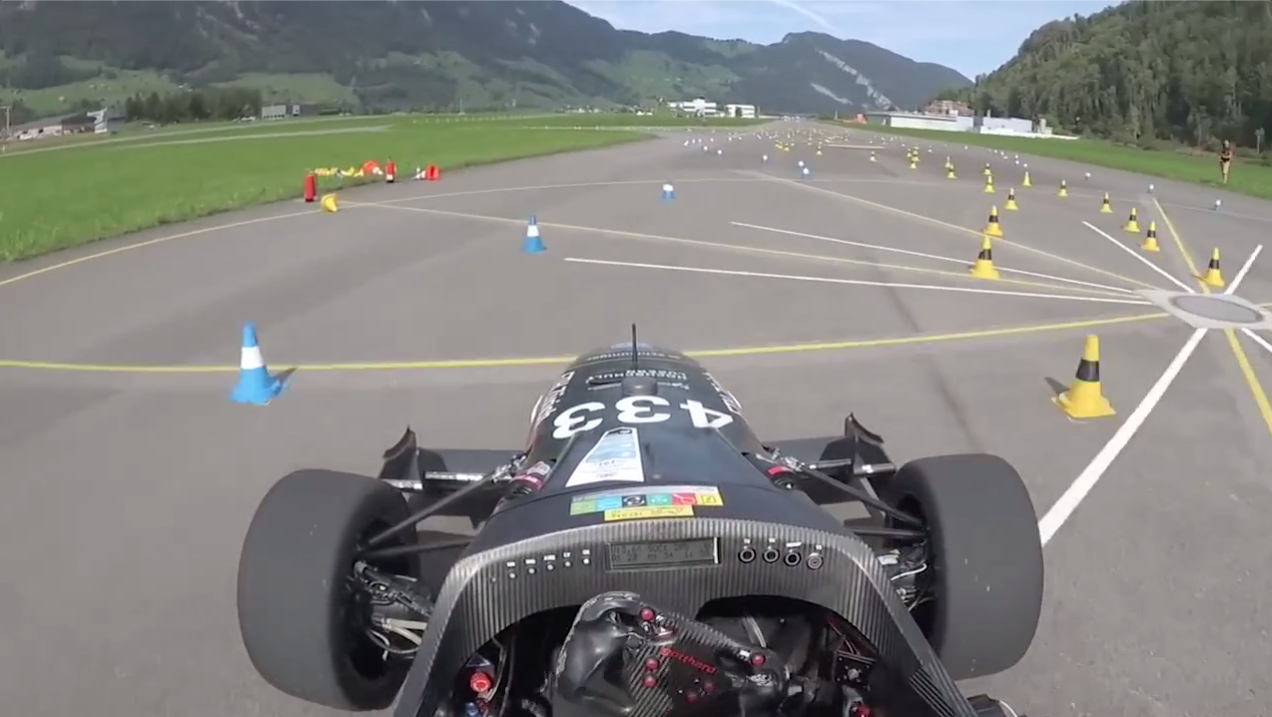lcone: (218, 318, 293, 408), (514, 211, 550, 258)
rcone: (1046, 332, 1120, 422), (968, 236, 1003, 283), (1199, 244, 1228, 290)
